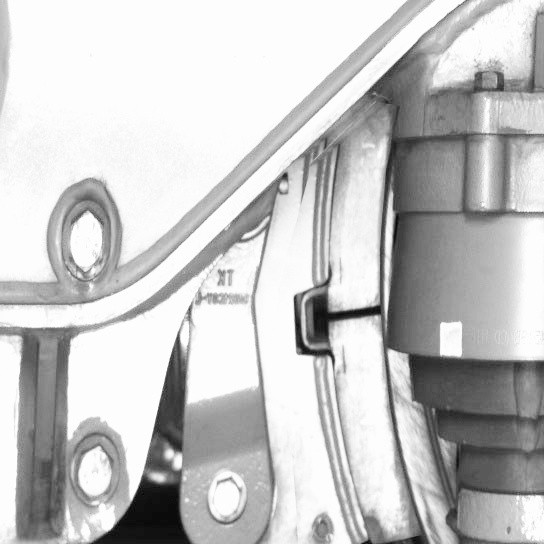ClosedKnifeSwitch: (313, 135, 434, 542)
